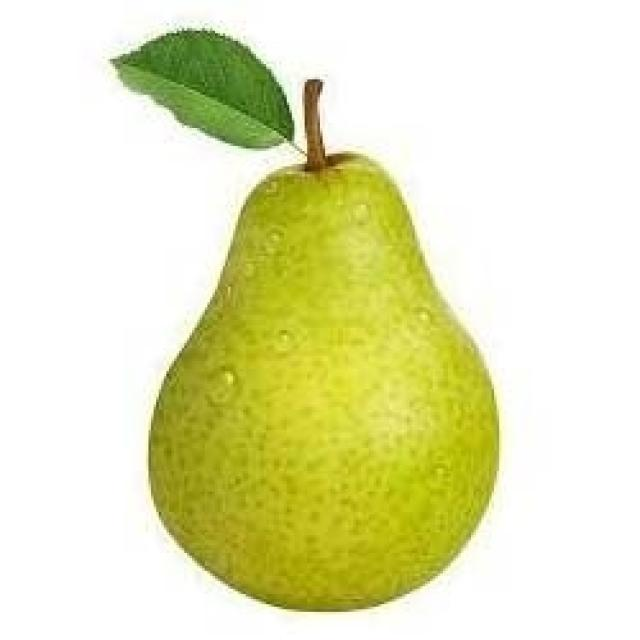Quả lê: (143, 151, 500, 612)
